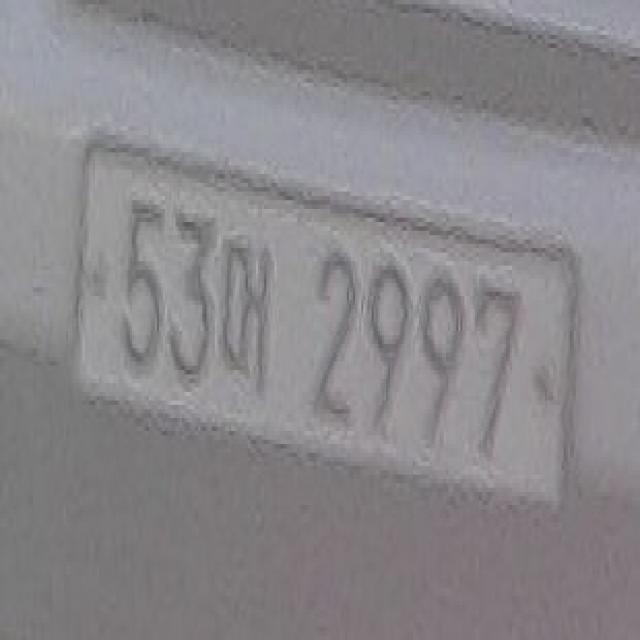2: (316, 231, 361, 453)
3: (169, 187, 217, 401)
5: (115, 174, 173, 409)
7: (469, 244, 524, 483)
9: (359, 222, 413, 475), (408, 252, 466, 474)
license_plate: (54, 105, 580, 558)
meo: (221, 222, 277, 401)
